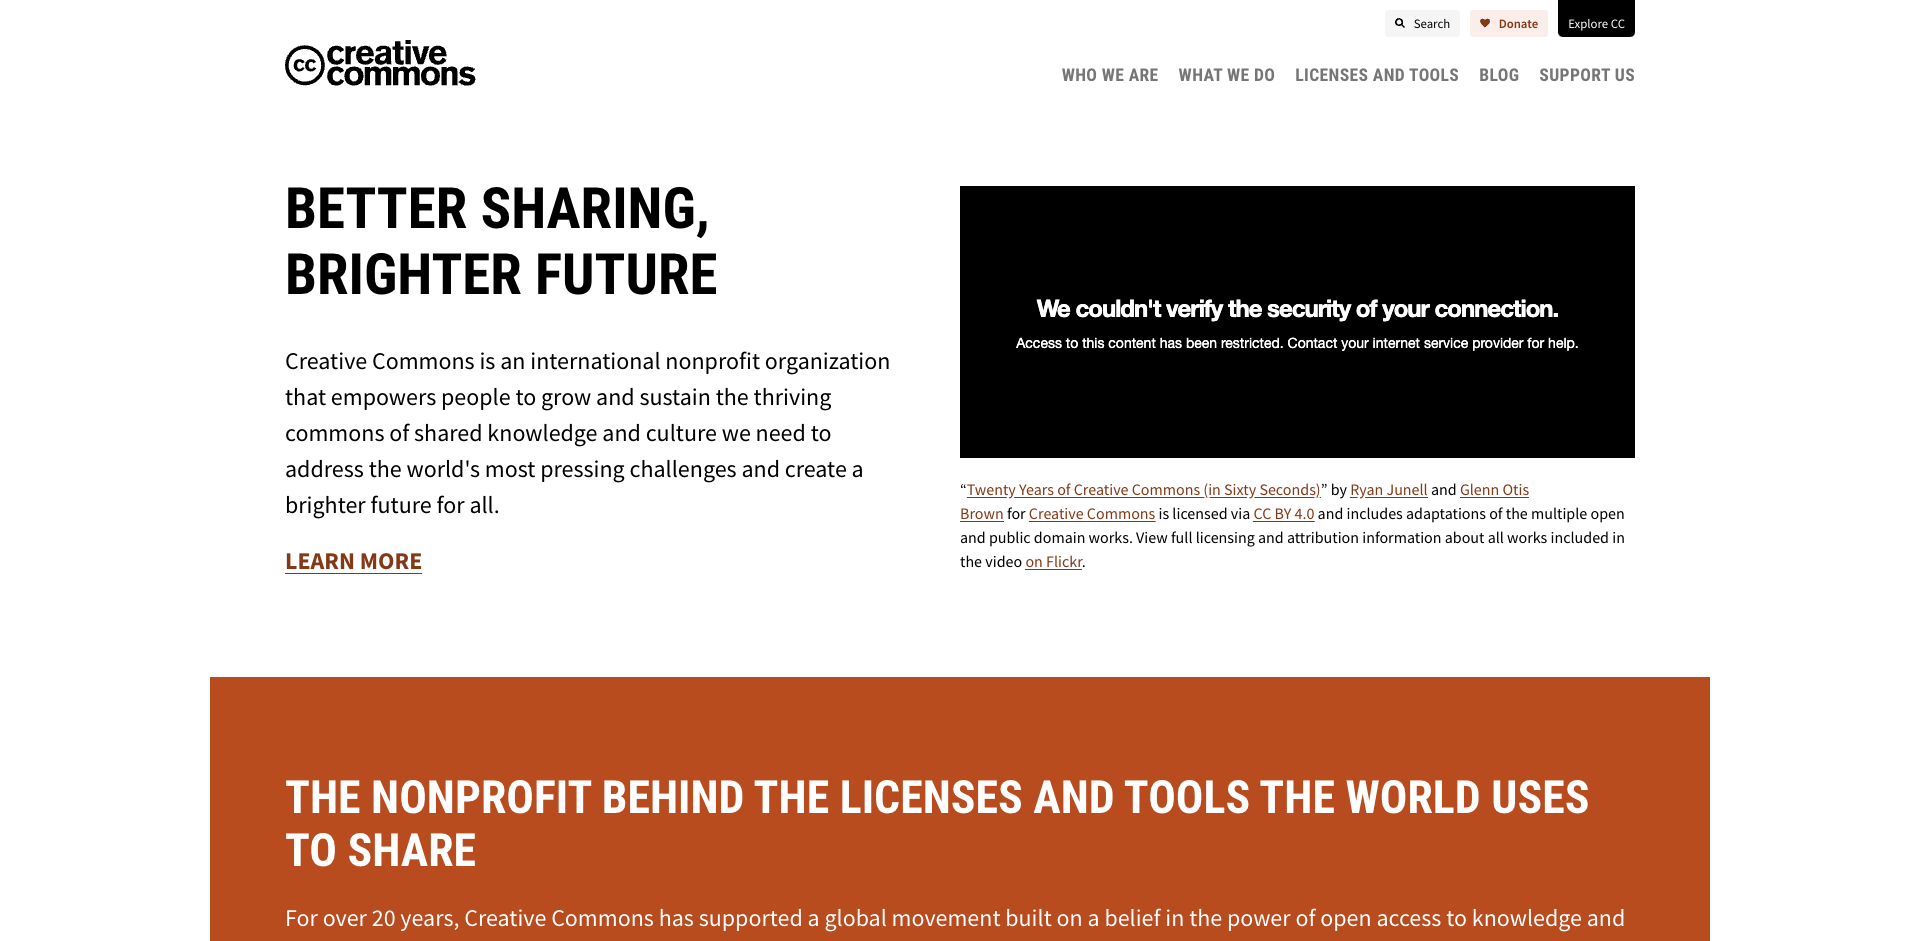button: (1558, 0, 1635, 37)
link: (960, 479, 1529, 523), (285, 40, 476, 89), (967, 479, 1321, 499), (285, 545, 422, 576), (1296, 65, 1460, 86), (1029, 504, 1155, 523), (1471, 10, 1548, 37), (1385, 10, 1461, 37), (1062, 65, 1158, 86), (1179, 65, 1275, 86), (1539, 65, 1635, 86), (1351, 479, 1428, 499), (1254, 504, 1314, 523), (1025, 551, 1081, 571), (1479, 65, 1520, 86)
